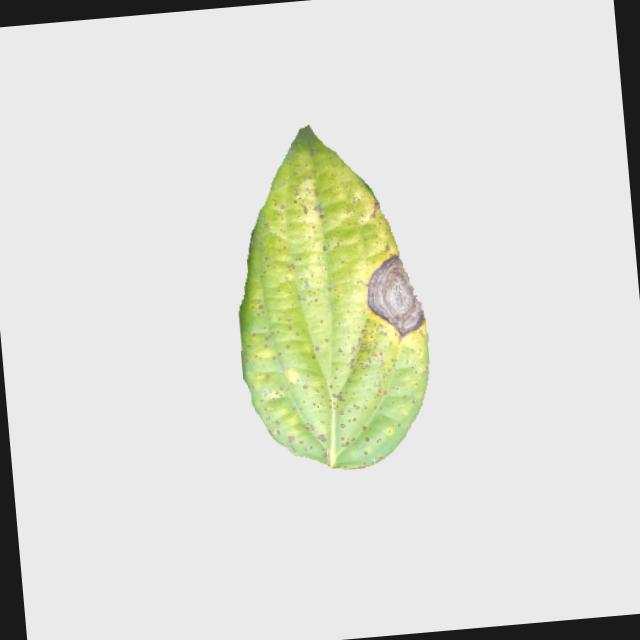leaf-blight: (216, 119, 442, 482)
